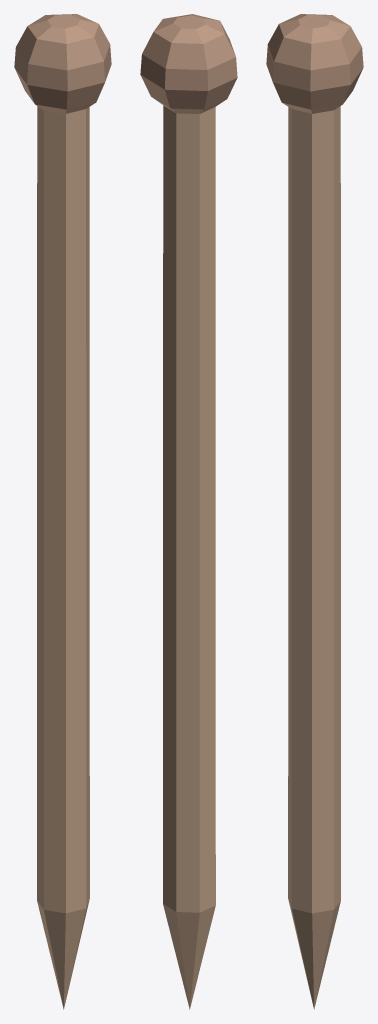
File: Knitting Stick.fbx
3 views of the same model, side by side, from view 1: azimuth 30°, elevation 25°; view 2: azimuth 150°, elevation 25°; view 3: azimuth 330°, elevation 25° (orthographic).
Parts seen in each view (by area): view 1: Knitting Stick; view 2: Knitting Stick; view 3: Knitting Stick.
Boxes of the visible parts, box(x1,y1,x2,y2) form: Knitting Stick: box(14, 14, 111, 1009); Knitting Stick: box(140, 14, 237, 1009); Knitting Stick: box(266, 14, 363, 1009).
Size of the model in its own units: 4.22 by 47.19 by 4.12.
